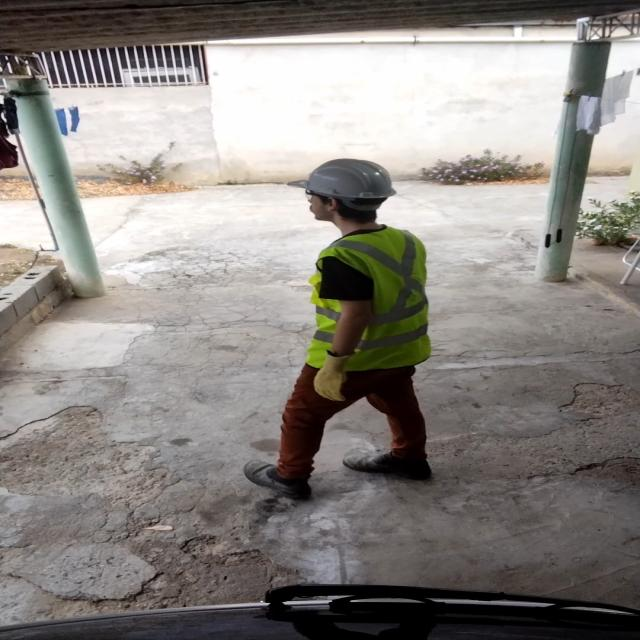glove: (306, 344, 368, 404)
helmet: (286, 154, 404, 213)
pants: (285, 366, 434, 466)
vest: (308, 227, 431, 371)
